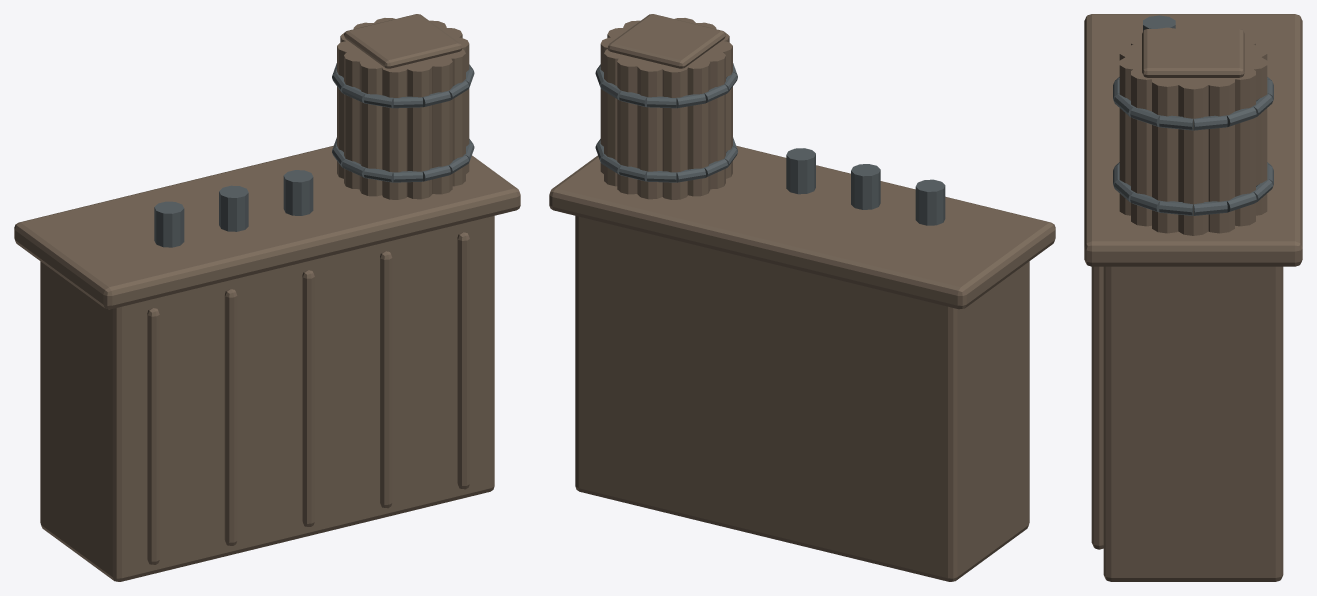
The model's file is inn_counter.glb.
The picture shows the model from 3 angles, left to right: view 1: azimuth 30°, elevation 25°; view 2: azimuth 150°, elevation 25°; view 3: azimuth 270°, elevation 25°; orthographic projection. The views are drawn at different scales.
Parts seen in each view (by area): view 1: Body.075; view 2: Body.075; view 3: Body.075.
Part boxes in pixels (x1,y1,x2,y2): Body.075: [14, 14, 520, 581]; Body.075: [549, 14, 1055, 581]; Body.075: [1084, 14, 1302, 581].
Bounding box in the file's own units: 1.29 × 1.3 × 0.51.
